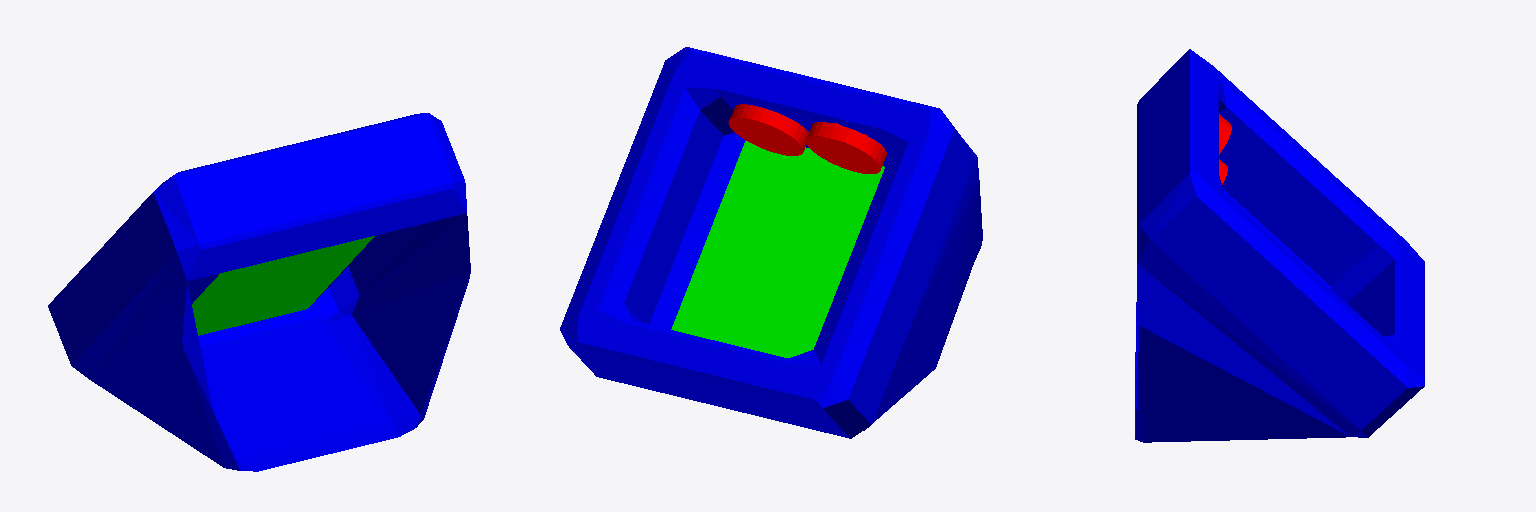
The model's file is ElevatorCharger.obj.
The picture shows the model from 3 angles: view 1: azimuth 30°, elevation 25°; view 2: azimuth 150°, elevation 25°; view 3: azimuth 270°, elevation 25°; orthographic projection.
Parts seen in each view (by area): view 1: ElevatorPower; view 2: ElevatorPower; view 3: ElevatorPower.
Boxes of the visible parts, x1=… form: ElevatorPower: x1=48, y1=113, x2=470, y2=471; ElevatorPower: x1=560, y1=47, x2=982, y2=438; ElevatorPower: x1=1135, y1=49, x2=1424, y2=442.
Size of the model in its own units: 2.26 by 2.17 by 1.96.